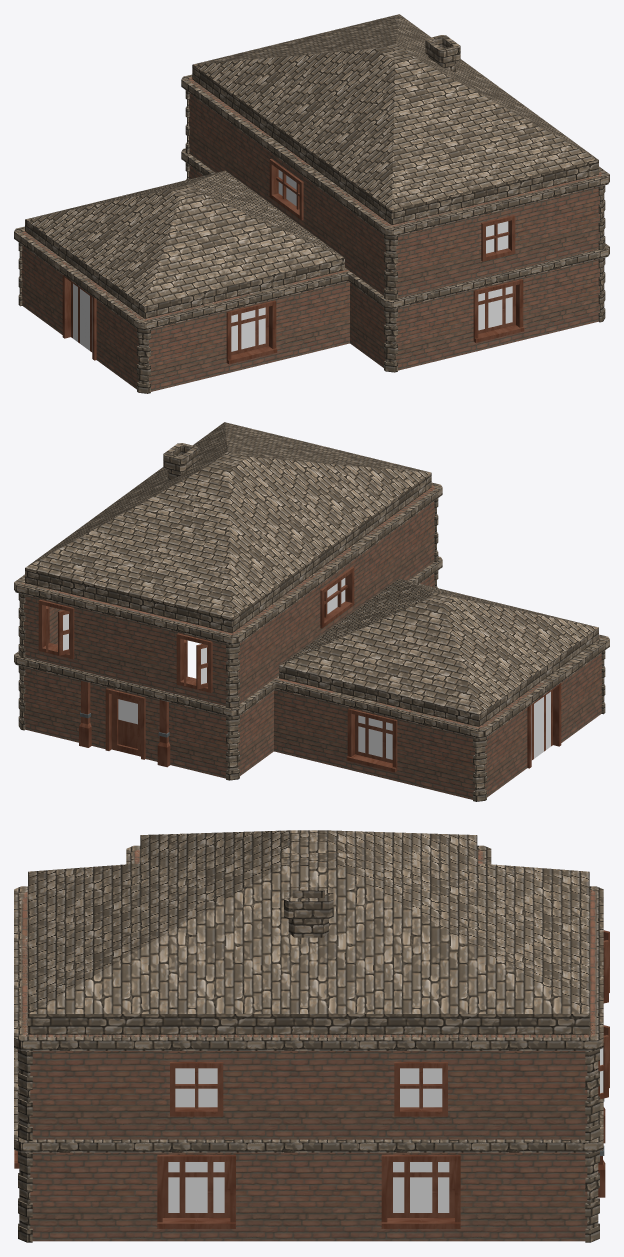
The model's file is House_1.glb.
3 views of the same model, one above another, from view 1: azimuth 30°, elevation 25°; view 2: azimuth 150°, elevation 25°; view 3: azimuth 270°, elevation 25° (orthographic). The views are drawn at different scales.
Visible parts, largest first — view 1: mergedBlocks(Clone); view 2: mergedBlocks(Clone); view 3: mergedBlocks(Clone).
Part boxes in pixels (box(x1,y1,x2,y2)): mergedBlocks(Clone): box(14, 14, 609, 393); mergedBlocks(Clone): box(14, 422, 609, 801); mergedBlocks(Clone): box(14, 830, 609, 1242).
Bounding box in the file's own units: 6.25 × 3.02 × 5.31.
Materials: 7 (4 with a texture image).
